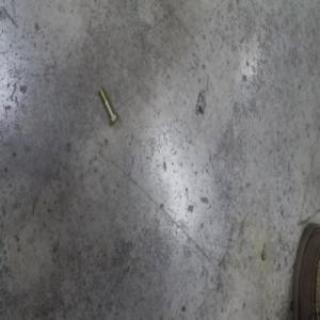Bolttrack_idkeyframe: (96, 84, 118, 126)
